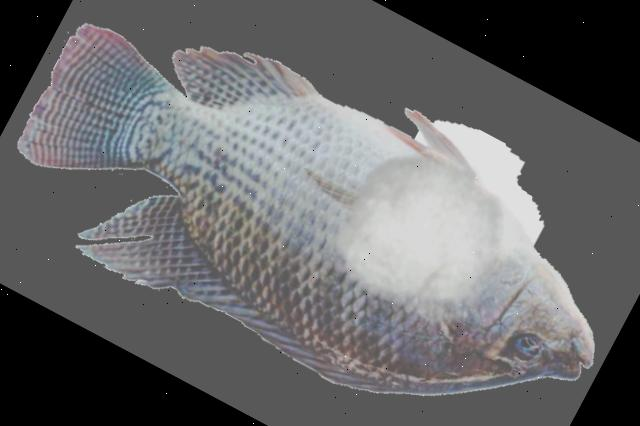Fungal Disease -Saprolegniasis-: (17, 23, 593, 395), (17, 23, 592, 394), (17, 24, 592, 394)
